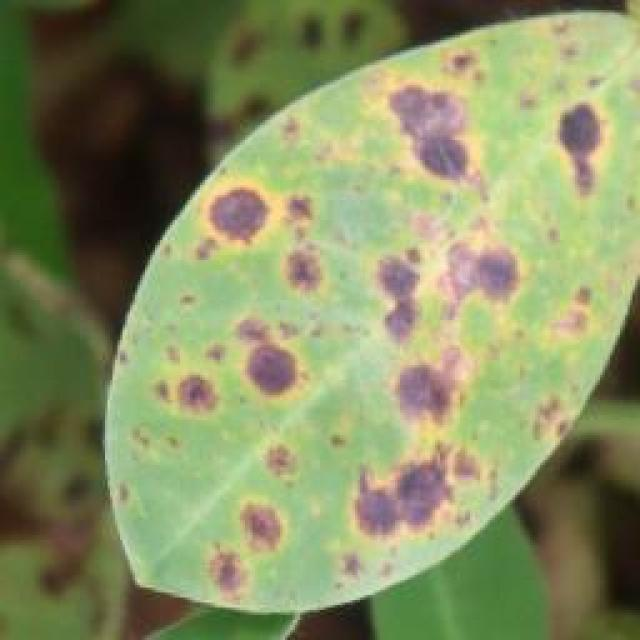Yellowish: (53, 0, 607, 613)
